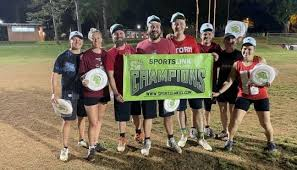disc: (250, 63, 276, 89), (83, 69, 108, 91), (52, 98, 74, 117), (164, 98, 179, 112)
